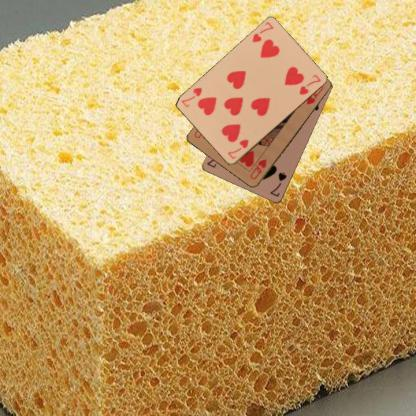7h: (225, 136, 251, 160), (250, 20, 275, 44)
7s: (268, 169, 288, 198)
Qh: (248, 156, 268, 181)
